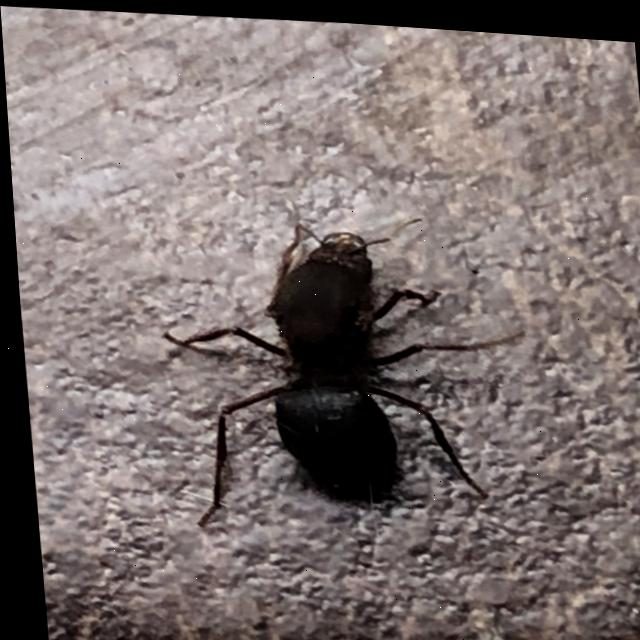Alive-Female-Dealate: (145, 196, 536, 544)
